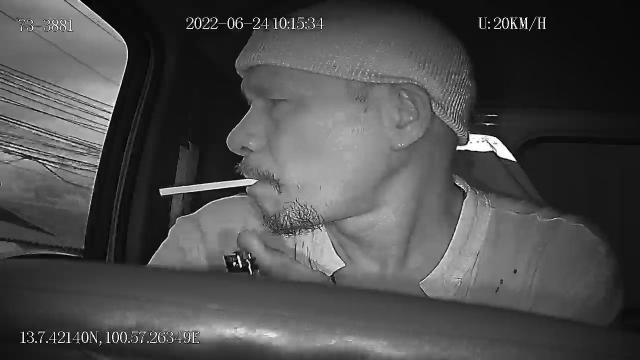Smoking: (158, 173, 262, 196)
